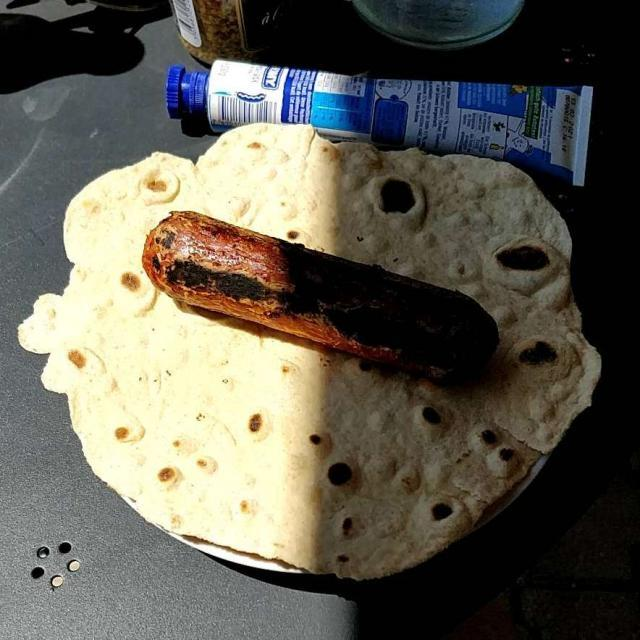bread: (58, 128, 590, 562)
